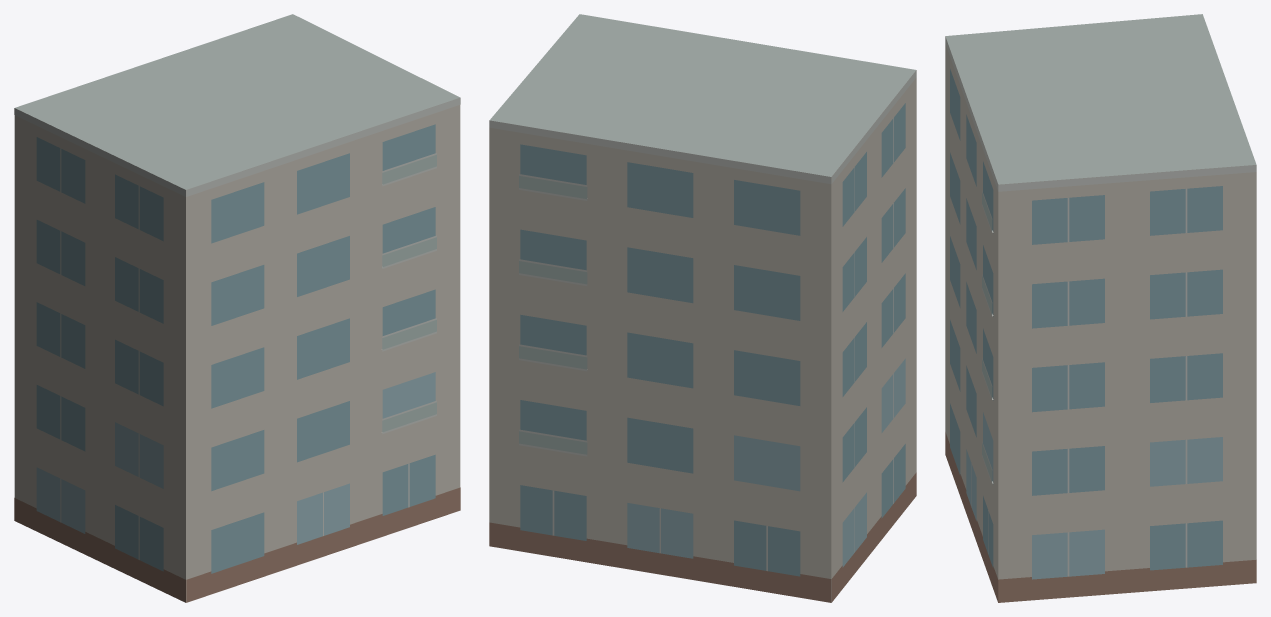
The model's file is survey-upis-32848903.glb.
The picture shows the model from 3 angles, left to right: view 1: azimuth 30°, elevation 25°; view 2: azimuth 150°, elevation 25°; view 3: azimuth 270°, elevation 25°; orthographic projection. The views are drawn at different scales.
Visible parts, largest first — view 1: survey-upis-32848903.tmp; view 2: survey-upis-32848903.tmp; view 3: survey-upis-32848903.tmp.
Part boxes in pixels (bbox=[...]): survey-upis-32848903.tmp: bbox=[14, 14, 460, 602]; survey-upis-32848903.tmp: bbox=[489, 14, 916, 602]; survey-upis-32848903.tmp: bbox=[945, 14, 1256, 602].
Size of the model in its own units: 12.43 by 14.2 by 9.59.
